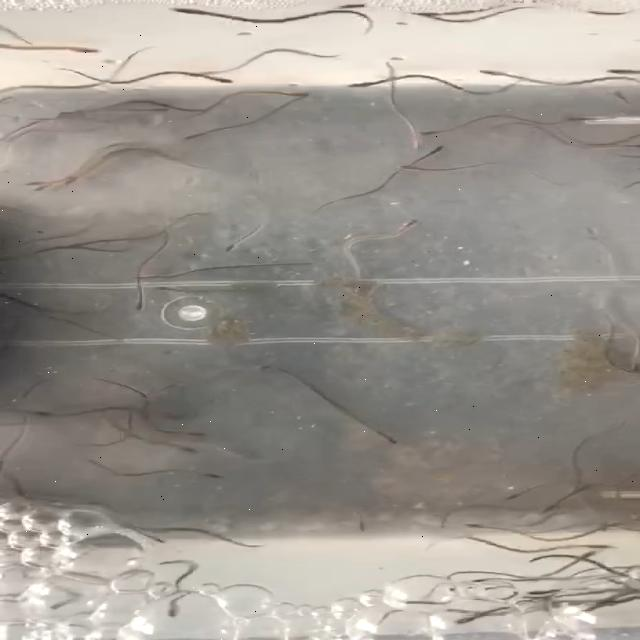active_glass_eel: (377, 217, 423, 237), (366, 424, 404, 444), (156, 426, 210, 440), (183, 72, 230, 88), (155, 438, 195, 456), (183, 62, 231, 76), (168, 7, 216, 20), (20, 174, 58, 190), (536, 496, 569, 514), (58, 43, 114, 53), (266, 84, 306, 98), (147, 282, 200, 292), (410, 5, 454, 17), (466, 516, 498, 532), (144, 100, 176, 116), (584, 538, 620, 552), (122, 294, 150, 312), (215, 237, 243, 255), (178, 129, 214, 143), (561, 113, 599, 126), (406, 126, 452, 136), (476, 66, 522, 76), (445, 613, 483, 625), (341, 78, 379, 90), (603, 66, 640, 78), (401, 132, 426, 149), (160, 601, 184, 618), (187, 470, 221, 482), (502, 488, 530, 502), (46, 178, 68, 195), (390, 164, 426, 174), (352, 513, 372, 530), (342, 0, 375, 10), (612, 90, 634, 104), (423, 144, 444, 158)
